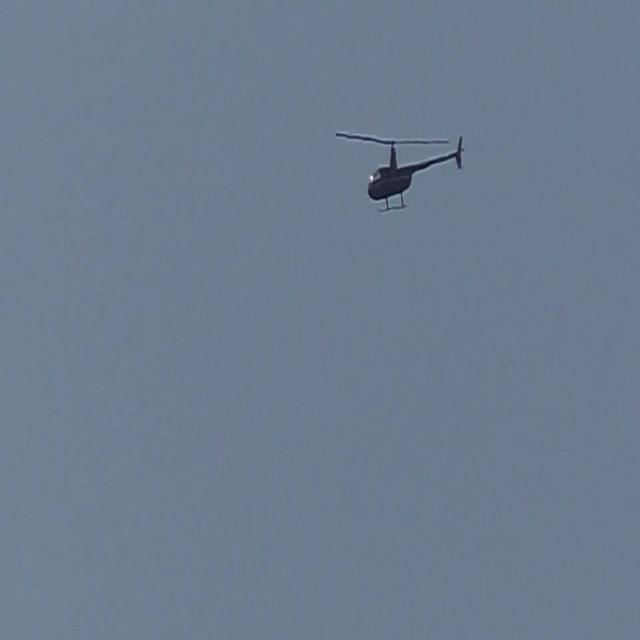CIV_HELO: (367, 134, 464, 214)
